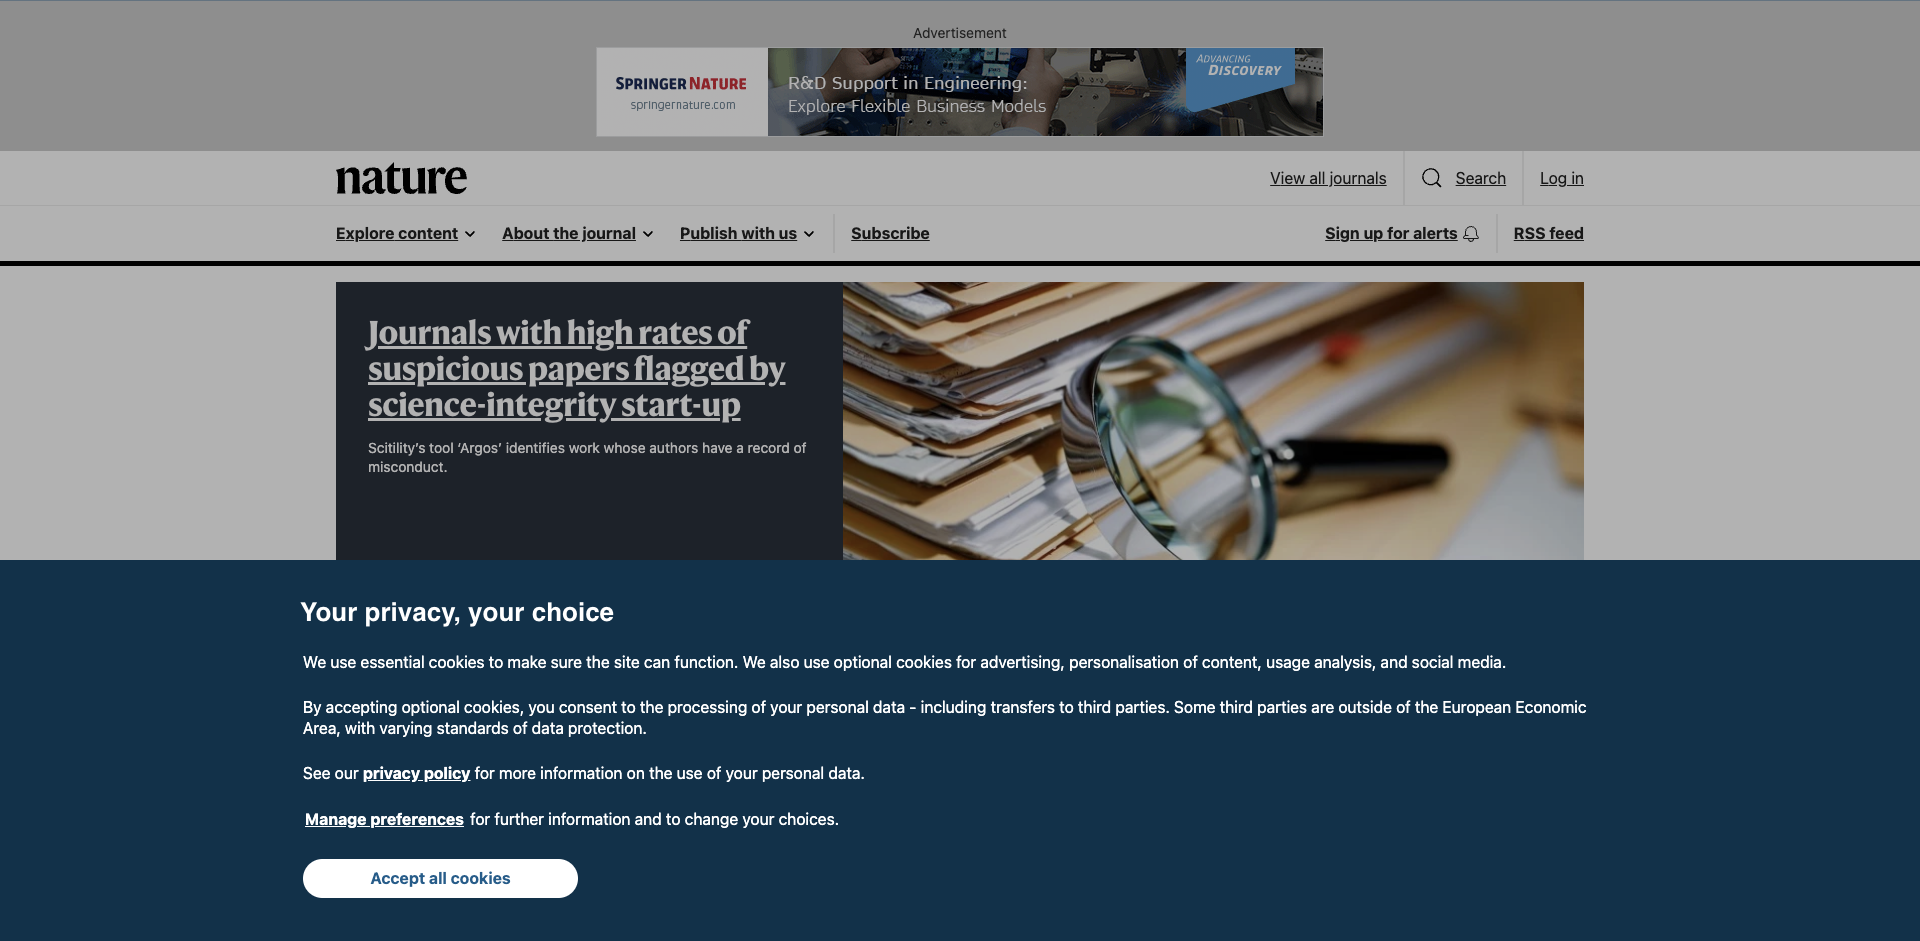button: (303, 859, 578, 898), (494, 214, 664, 253), (328, 214, 486, 253), (672, 214, 825, 253), (1413, 159, 1514, 197), (303, 808, 466, 831)
dropdown: (494, 214, 664, 253), (328, 214, 486, 253), (672, 214, 825, 253)
link: (1347, 701, 1584, 941), (368, 313, 785, 423), (336, 838, 566, 941), (842, 838, 1069, 906), (1094, 838, 1309, 906), (589, 838, 773, 906), (1317, 214, 1488, 253), (1262, 159, 1395, 197), (336, 156, 467, 194), (843, 214, 938, 253), (1506, 214, 1592, 253), (1532, 159, 1592, 197), (363, 764, 470, 782)
